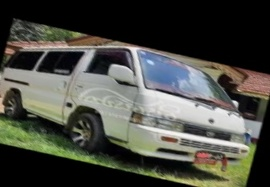van: (0, 19, 261, 180)
